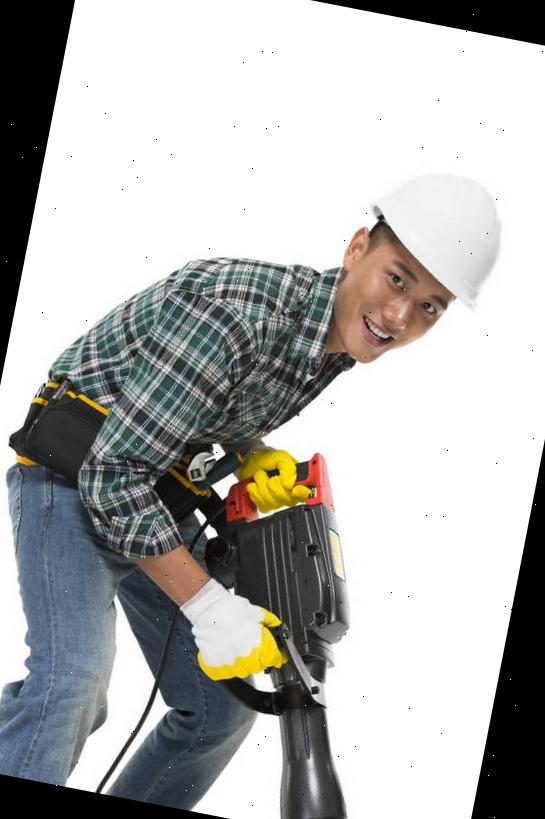helmet: (348, 154, 518, 317)
no_wear: (46, 232, 336, 500)
